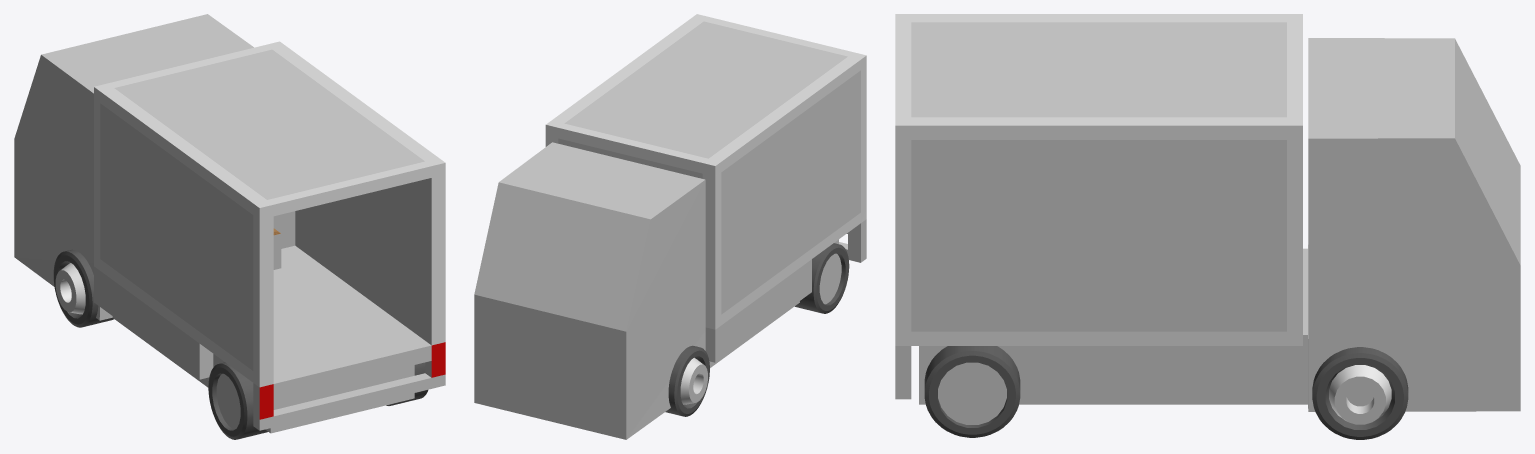
File: Truck(empty).fbx
3 views of the same model, side by side, from view 1: azimuth 30°, elevation 25°; view 2: azimuth 150°, elevation 25°; view 3: azimuth 270°, elevation 25° (orthographic). The views are drawn at different scales.
Parts seen in each view (by area): view 1: truck, BackWheel_L, FrontWheel_L; view 2: truck, FrontWheel_L, BackWheel_L; view 3: truck, BackWheel_R, FrontWheel_R.
Part boxes in pixels (x1=…): truck: x1=14, y1=14, x2=445, y2=433; BackWheel_L: x1=208, y1=362, x2=267, y2=439; FrontWheel_L: x1=53, y1=249, x2=113, y2=327; truck: x1=474, y1=14, x2=866, y2=439; FrontWheel_L: x1=665, y1=345, x2=709, y2=416; BackWheel_L: x1=795, y1=243, x2=849, y2=313; truck: x1=895, y1=14, x2=1520, y2=411; BackWheel_R: x1=924, y1=346, x2=1020, y2=437; FrontWheel_R: x1=1312, y1=347, x2=1408, y2=439.
Size of the model in its own units: 25.53 by 31.47 by 56.75.
